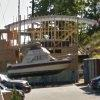Boat: (4, 43, 74, 81)
